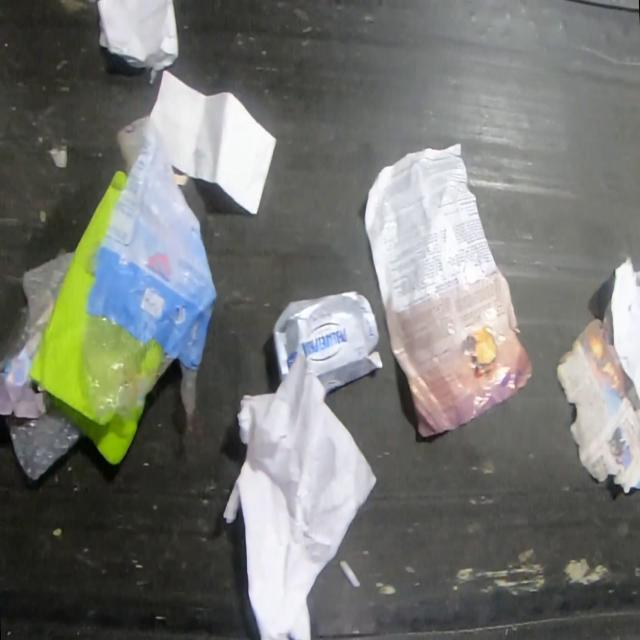cardboard: (271, 288, 384, 394)
soft_plastic: (78, 113, 220, 428), (0, 246, 83, 479)
